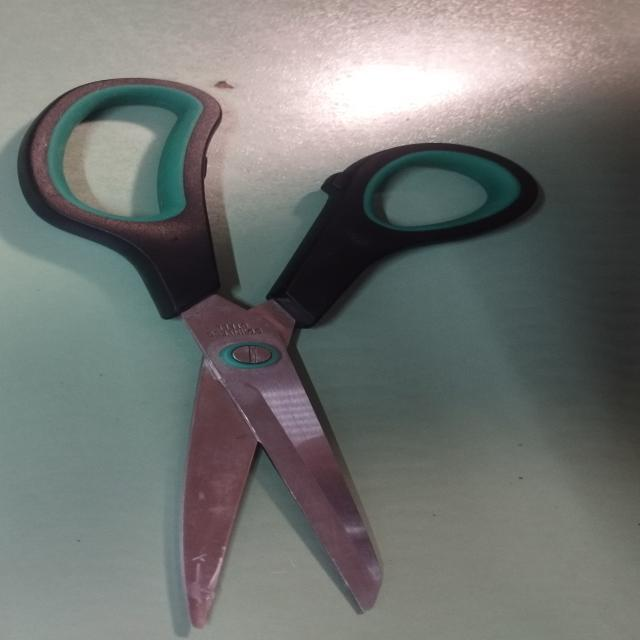tesoura: (8, 74, 563, 631)
